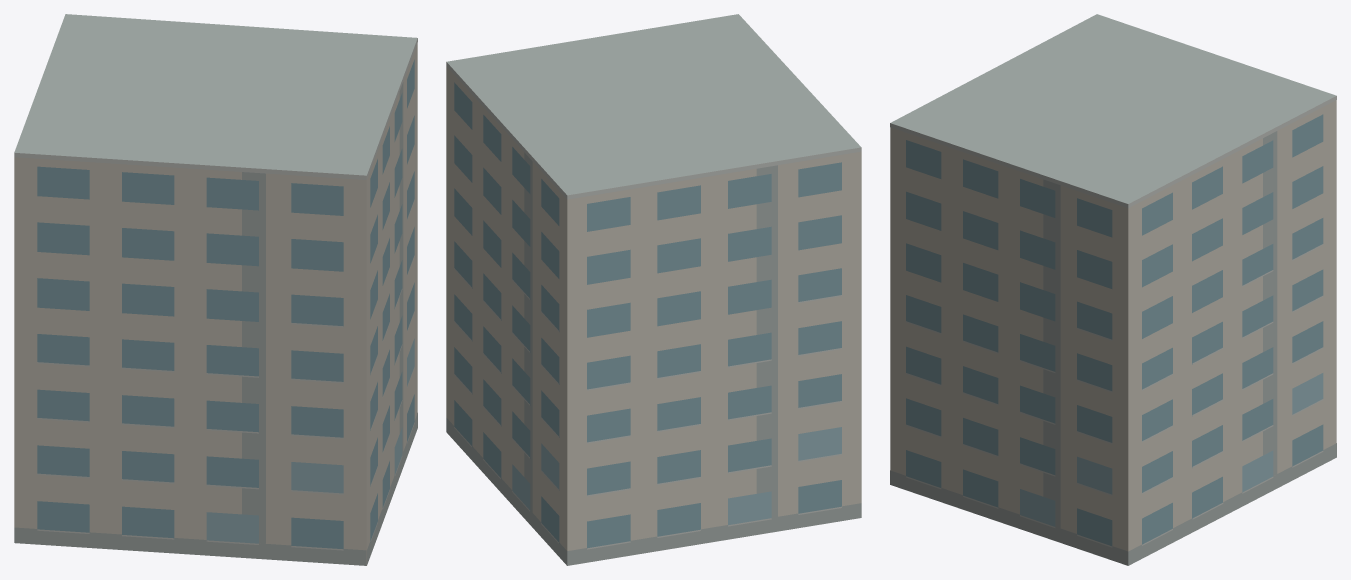
Rendered from residential-2fbb9641-2297-4a08-8cfd-b336504cf214.glb.
The picture shows the model from 3 angles, left to right: view 1: azimuth 30°, elevation 25°; view 2: azimuth 150°, elevation 25°; view 3: azimuth 270°, elevation 25°; orthographic projection. The views are drawn at different scales.
Visible parts, largest first — view 1: residential-2fbb9641-2297-4a08-8cfd-b336504cf214.tmp; view 2: residential-2fbb9641-2297-4a08-8cfd-b336504cf214.tmp; view 3: residential-2fbb9641-2297-4a08-8cfd-b336504cf214.tmp.
Part boxes in pixels (bbox=[...]): residential-2fbb9641-2297-4a08-8cfd-b336504cf214.tmp: bbox=[14, 14, 417, 565]; residential-2fbb9641-2297-4a08-8cfd-b336504cf214.tmp: bbox=[446, 14, 861, 565]; residential-2fbb9641-2297-4a08-8cfd-b336504cf214.tmp: bbox=[890, 14, 1336, 565].
Bounding box in the file's own units: 24.08 × 21.35 × 23.9.
